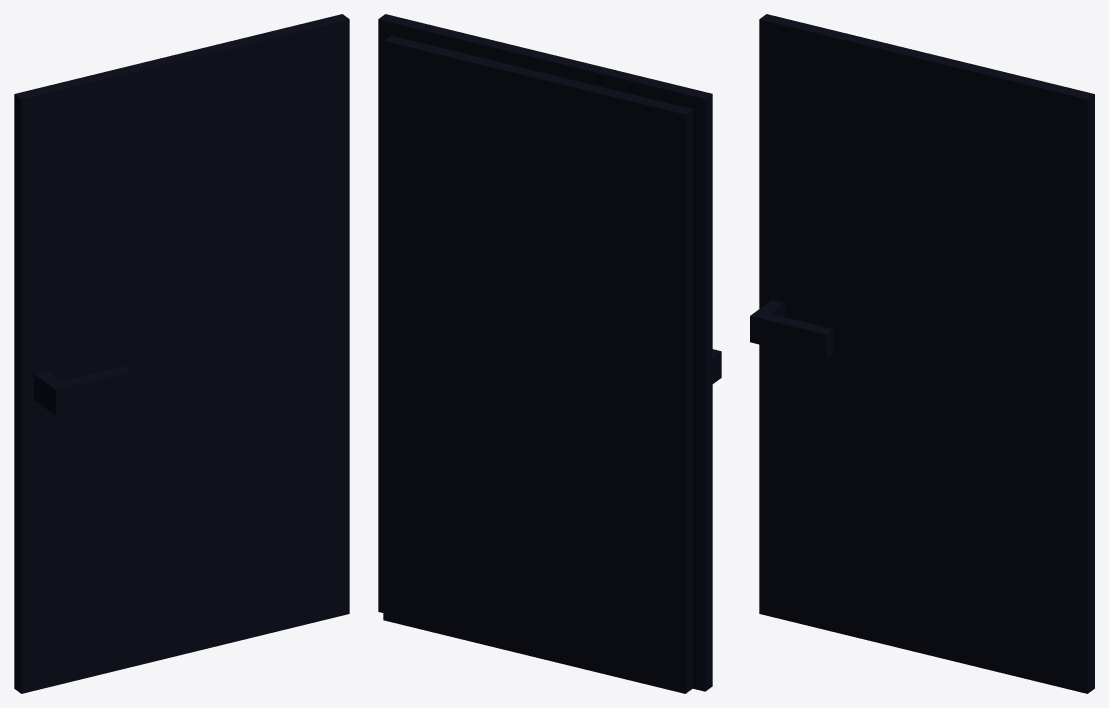
Rendered from Door.obj.
3 renders of one model, left to right at view 1: azimuth 30°, elevation 25°; view 2: azimuth 150°, elevation 25°; view 3: azimuth 330°, elevation 25°, orthographic.
Size of the model in its own units: 26 by 45 by 5.
Materials: 1 (1 with a texture image).
